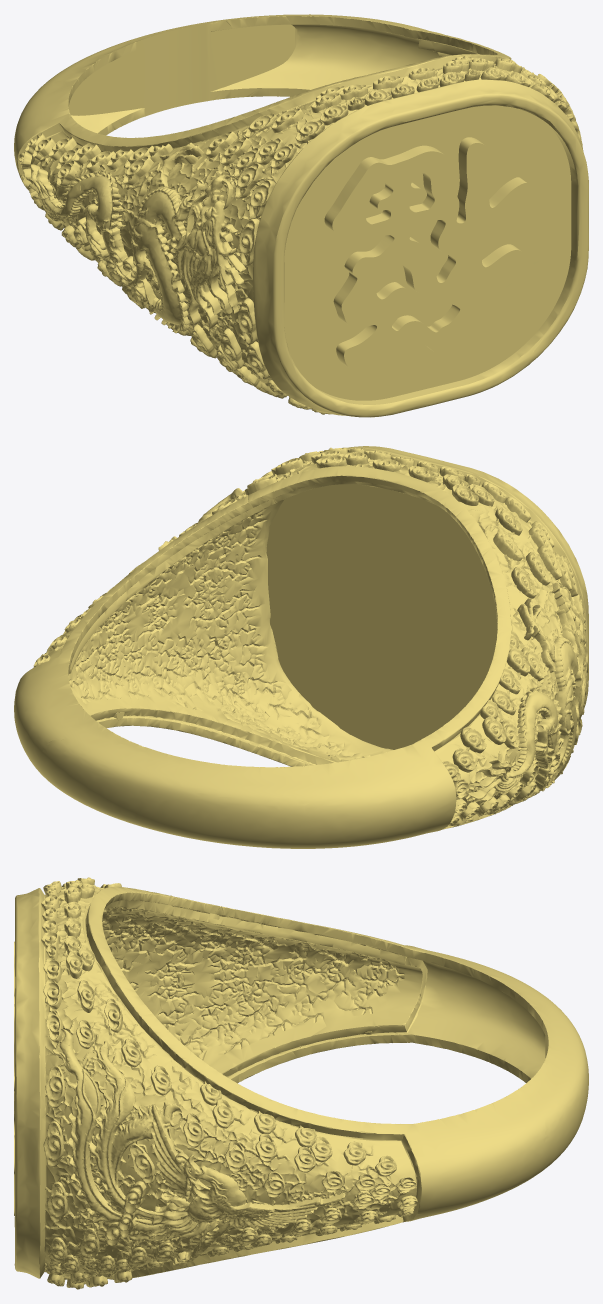
The model's file is hakan_ab.glb.
3 views of the same model, one above another, from view 1: azimuth 30°, elevation 25°; view 2: azimuth 150°, elevation 25°; view 3: azimuth 270°, elevation 25° (orthographic). The views are drawn at different scales.
Visible parts, largest first — view 1: Renderer Node; view 2: Renderer Node; view 3: Renderer Node.
Part boxes in pixels (x1,y1,x2,y2): Renderer Node: (14,14,588,417); Renderer Node: (14,446,588,848); Renderer Node: (14,877,588,1289).
Size of the model in its own units: 22.47 by 14.88 by 22.98.
